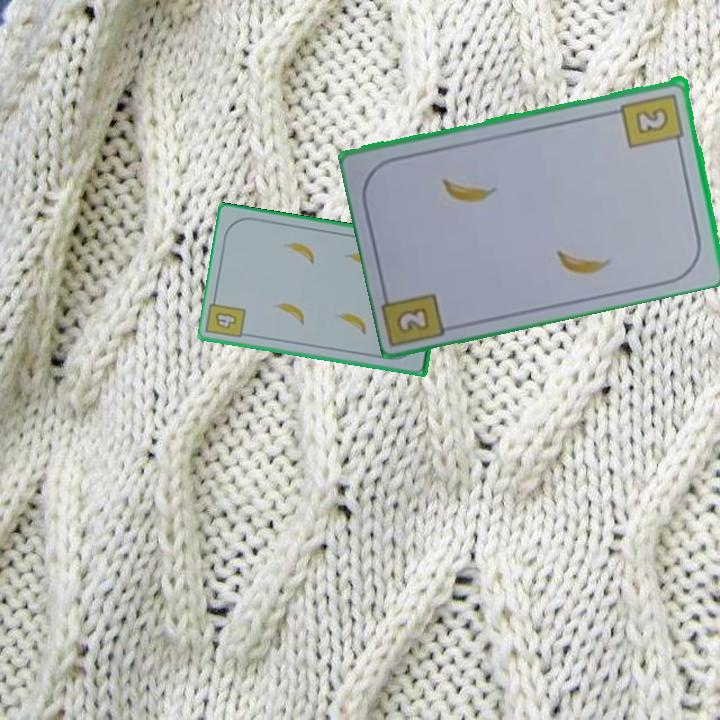2b: (618, 89, 687, 151), (393, 303, 433, 337)
4b: (211, 309, 239, 332)
